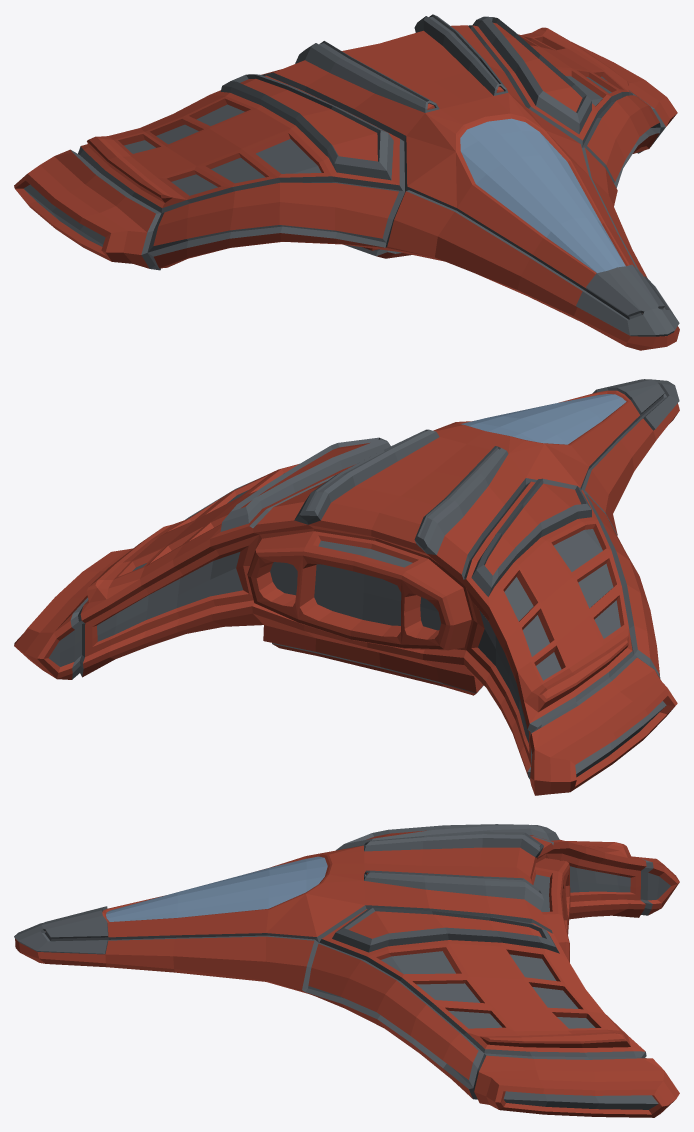
File: Fighter_09_Body_Red.fbx
3 renders of one model, top to bottom at view 1: azimuth 30°, elevation 25°; view 2: azimuth 150°, elevation 25°; view 3: azimuth 270°, elevation 25°, orthographic. The views are drawn at different scales.
Visible parts, largest first — view 1: Fighter_09_Body_Red; view 2: Fighter_09_Body_Red; view 3: Fighter_09_Body_Red.
Boxes of the visible parts, x1,y1,x2,y2 form: Fighter_09_Body_Red: (14, 14, 679, 350); Fighter_09_Body_Red: (14, 379, 679, 795); Fighter_09_Body_Red: (14, 824, 679, 1117).
Size of the model in its own units: 1089 by 331 by 1256.
2 materials, 2 textured.
